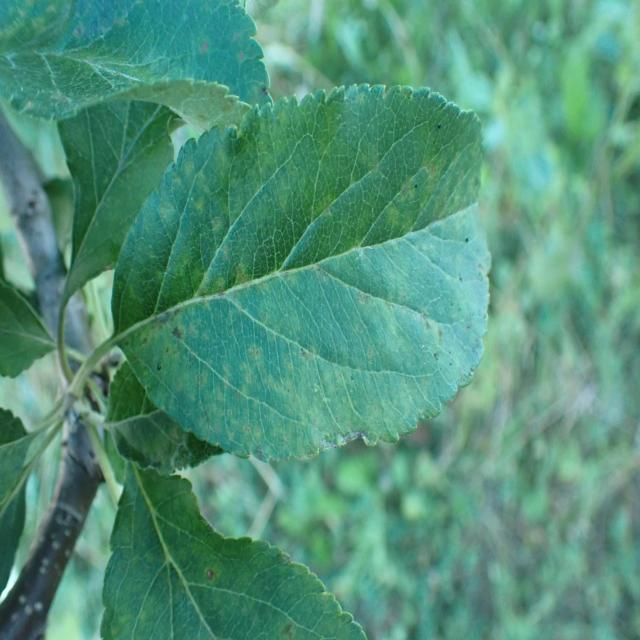scab: (130, 133, 488, 440), (0, 0, 269, 122)
